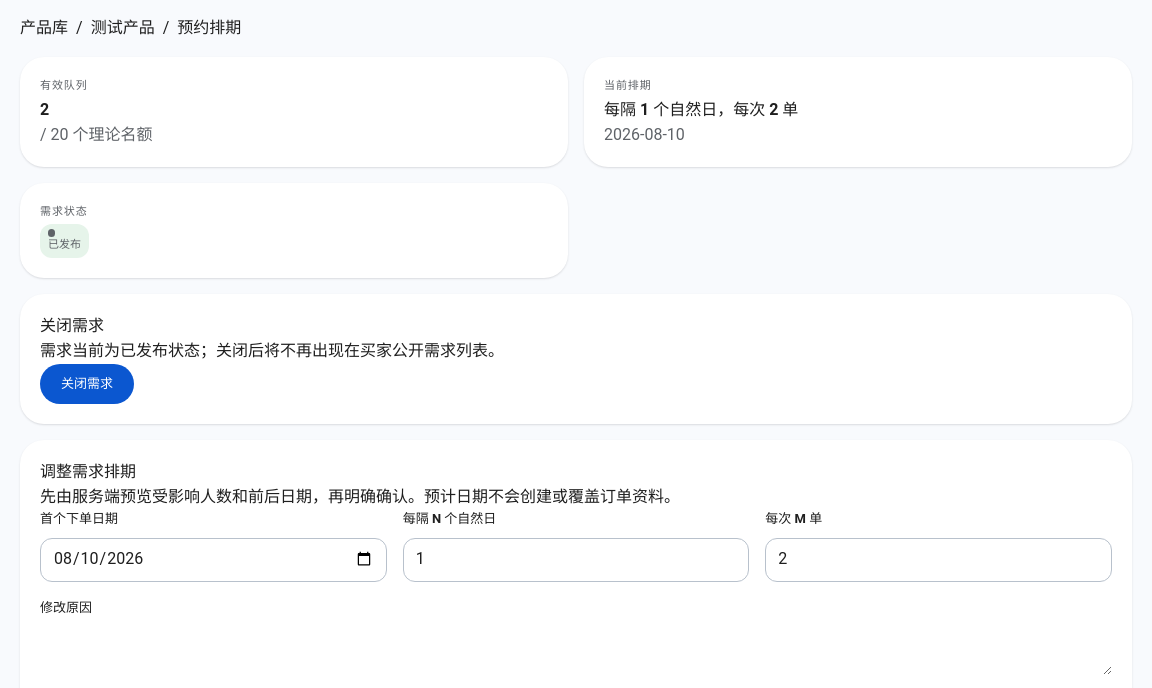
Test case: 产品预约排期工作区 › deduplicates a close submit while the first request is in flight
The width and height of the screenshot is (1152, 688).
Click the button "关闭需求": (87, 384) [40, 364, 134, 404]
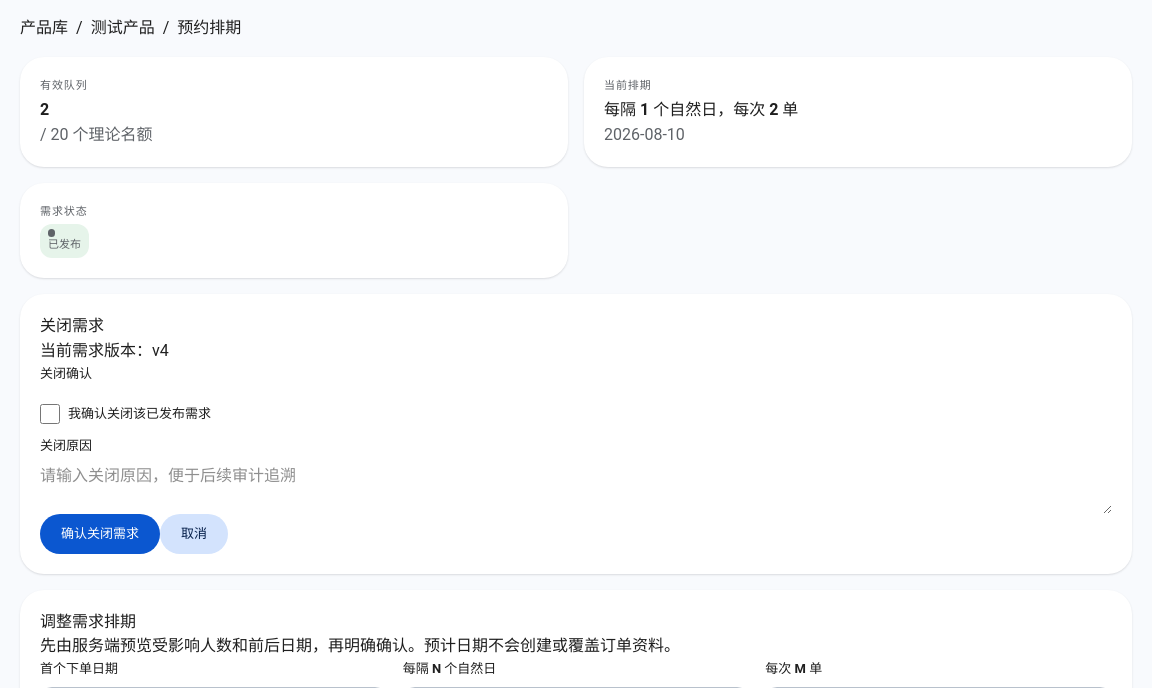
Click the checkbox named "我确认关闭该已发布需求": (50, 414) [40, 404, 60, 424]
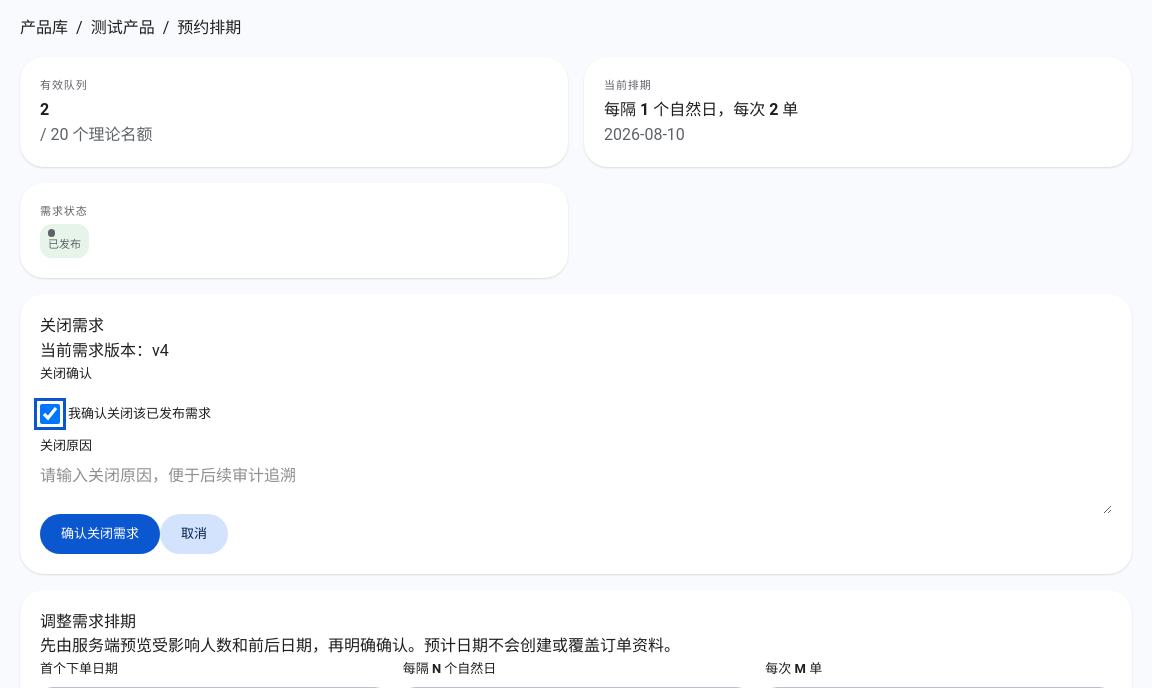
In the text box labelled "关闭原因": (576, 489) [40, 464, 1112, 514], type "并发点击保护"
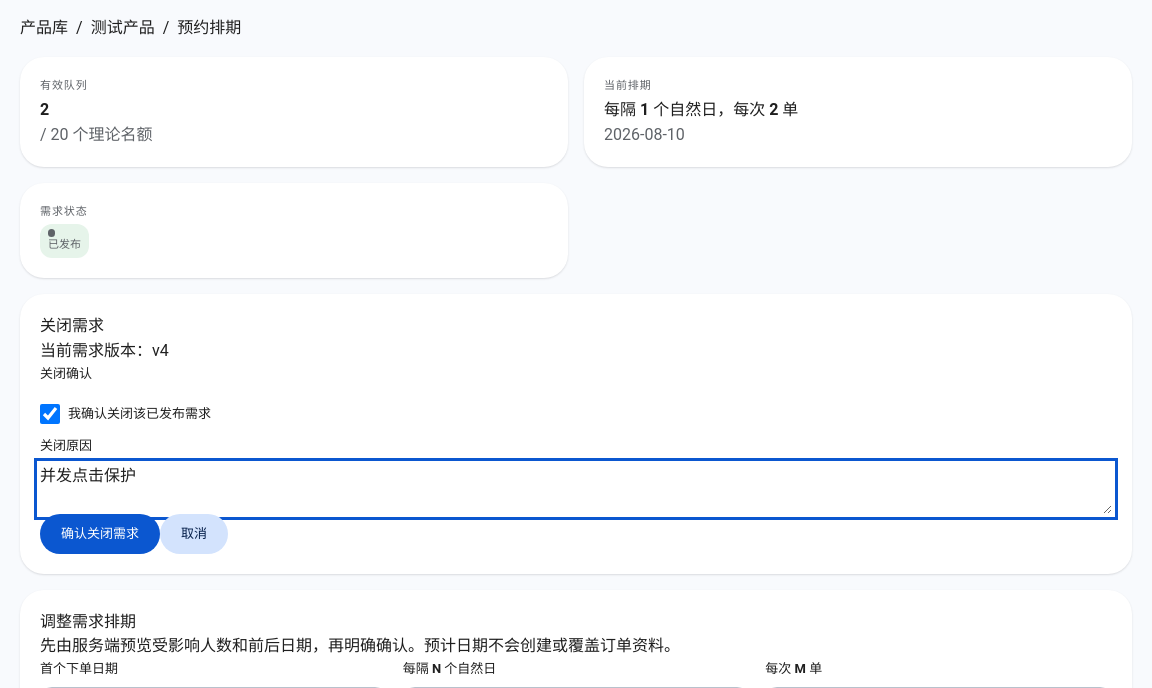
Click the button "确认关闭需求": (100, 534) [40, 514, 160, 554]
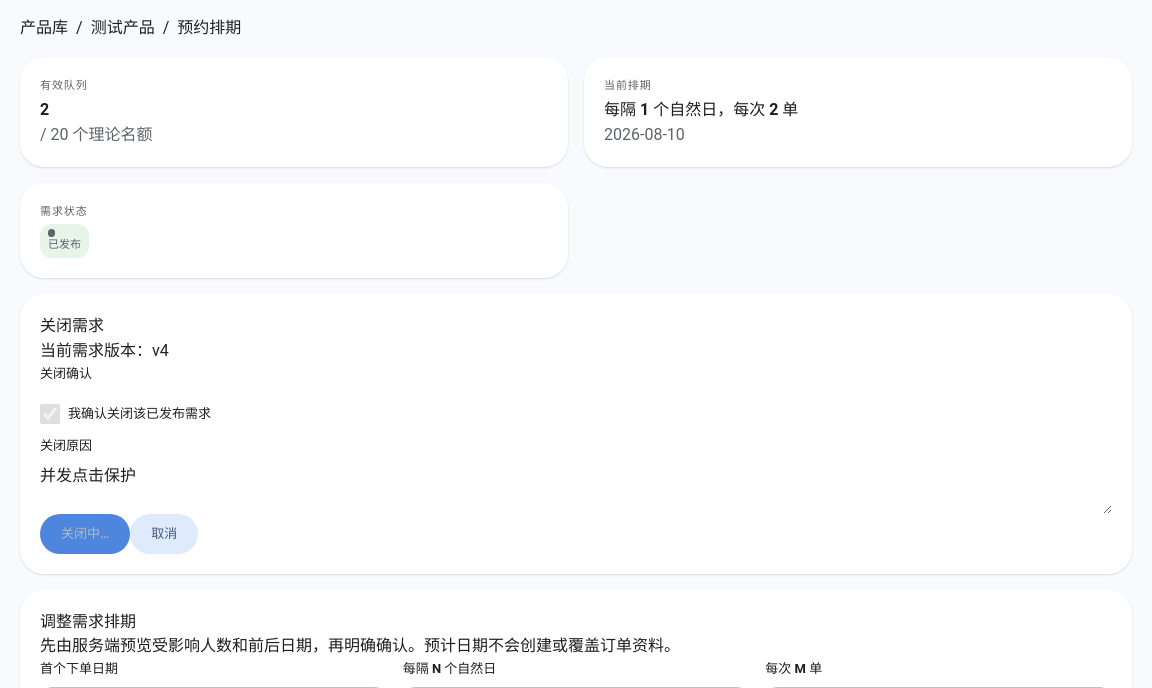
Check: the button "关闭中…" is disabled
Click the button "关闭中…": (85, 534) [40, 514, 130, 554]
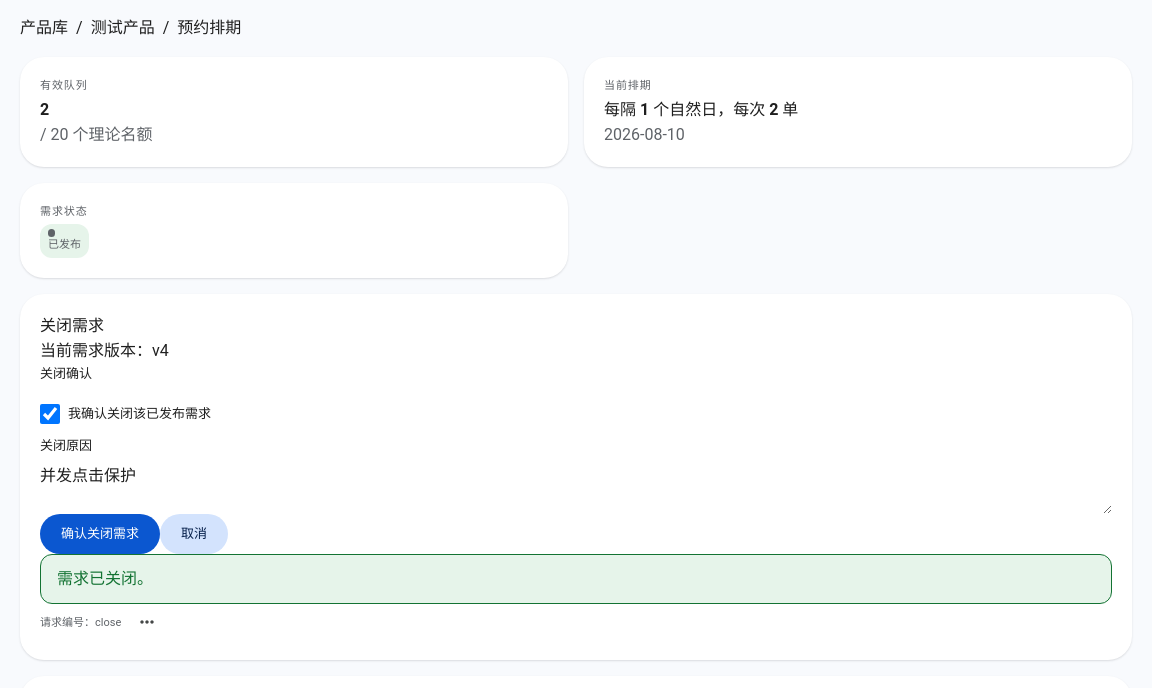
Check: the text "需求已关闭。" is shown, box [57, 569, 153, 588]
